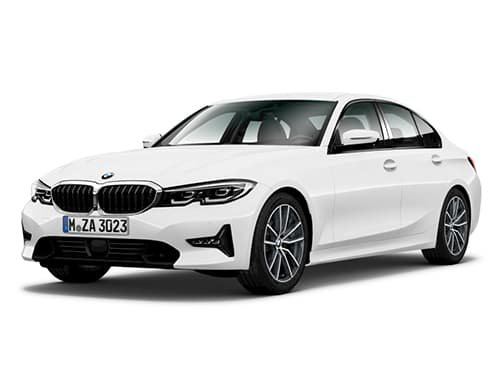car: (20, 96, 481, 289)
